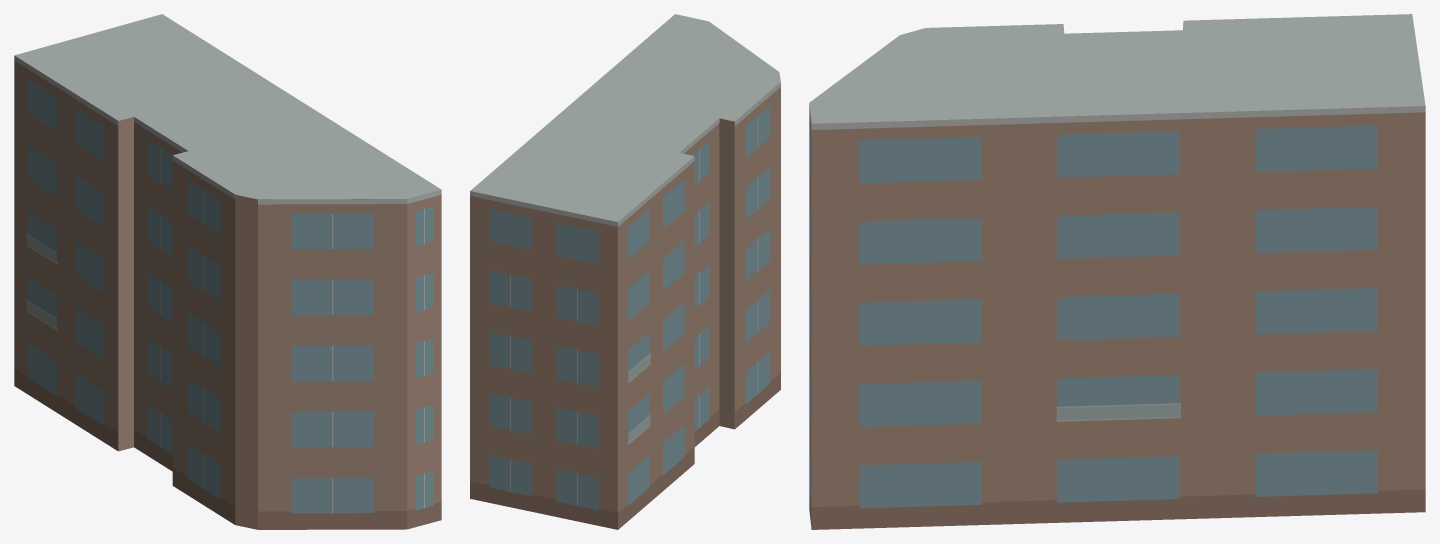
Rendered from survey-upis-32768669.glb.
3 views of the same model, side by side, from view 1: azimuth 30°, elevation 25°; view 2: azimuth 150°, elevation 25°; view 3: azimuth 270°, elevation 25° (orthographic). The views are drawn at different scales.
Parts seen in each view (by area): view 1: survey-upis-32768669.tmp; view 2: survey-upis-32768669.tmp; view 3: survey-upis-32768669.tmp.
Boxes of the visible parts, bbox=[...] form: survey-upis-32768669.tmp: bbox=[14, 14, 441, 529]; survey-upis-32768669.tmp: bbox=[470, 14, 780, 529]; survey-upis-32768669.tmp: bbox=[809, 14, 1425, 529].
Bounding box in the file's own units: 9.17 × 15.8 × 21.74.
